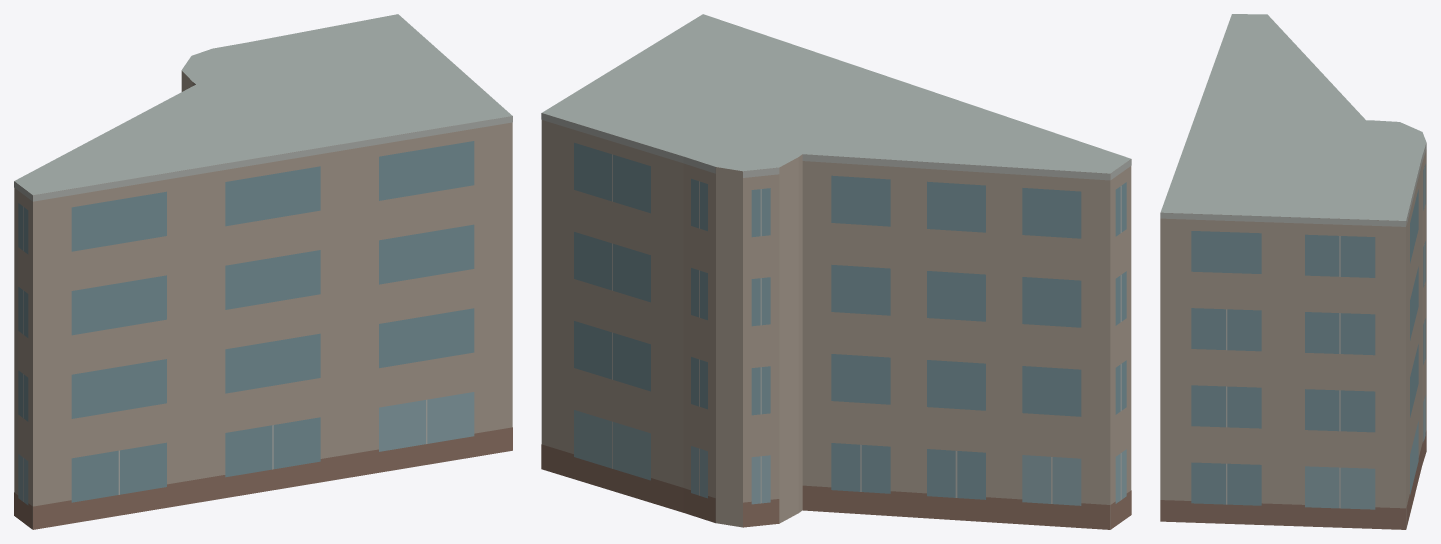
File: survey-upis-32998929.glb
3 views of the same model, side by side, from view 1: azimuth 30°, elevation 25°; view 2: azimuth 150°, elevation 25°; view 3: azimuth 270°, elevation 25° (orthographic). The views are drawn at different scales.
Visible parts, largest first — view 1: survey-upis-32998929.tmp; view 2: survey-upis-32998929.tmp; view 3: survey-upis-32998929.tmp.
Boxes of the visible parts, <box> form: survey-upis-32998929.tmp: <box>14,14,512,529</box>; survey-upis-32998929.tmp: <box>541,14,1131,529</box>; survey-upis-32998929.tmp: <box>1160,14,1426,529</box>.
Size of the model in its own units: 18.27 by 12.7 by 9.93.
